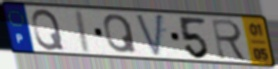5: (176, 15, 211, 60)
I: (75, 8, 93, 55)
Q: (102, 12, 139, 55), (30, 8, 66, 51)
R: (210, 18, 250, 63)
V: (134, 13, 166, 60)
